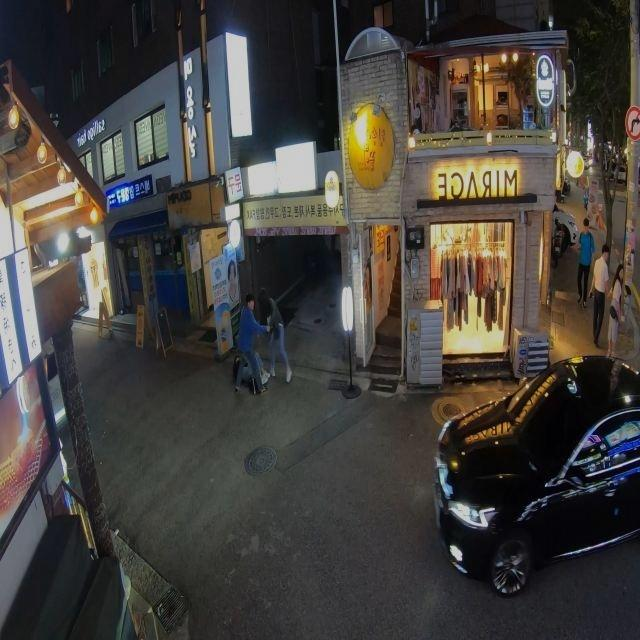fight: (231, 289, 293, 392)
